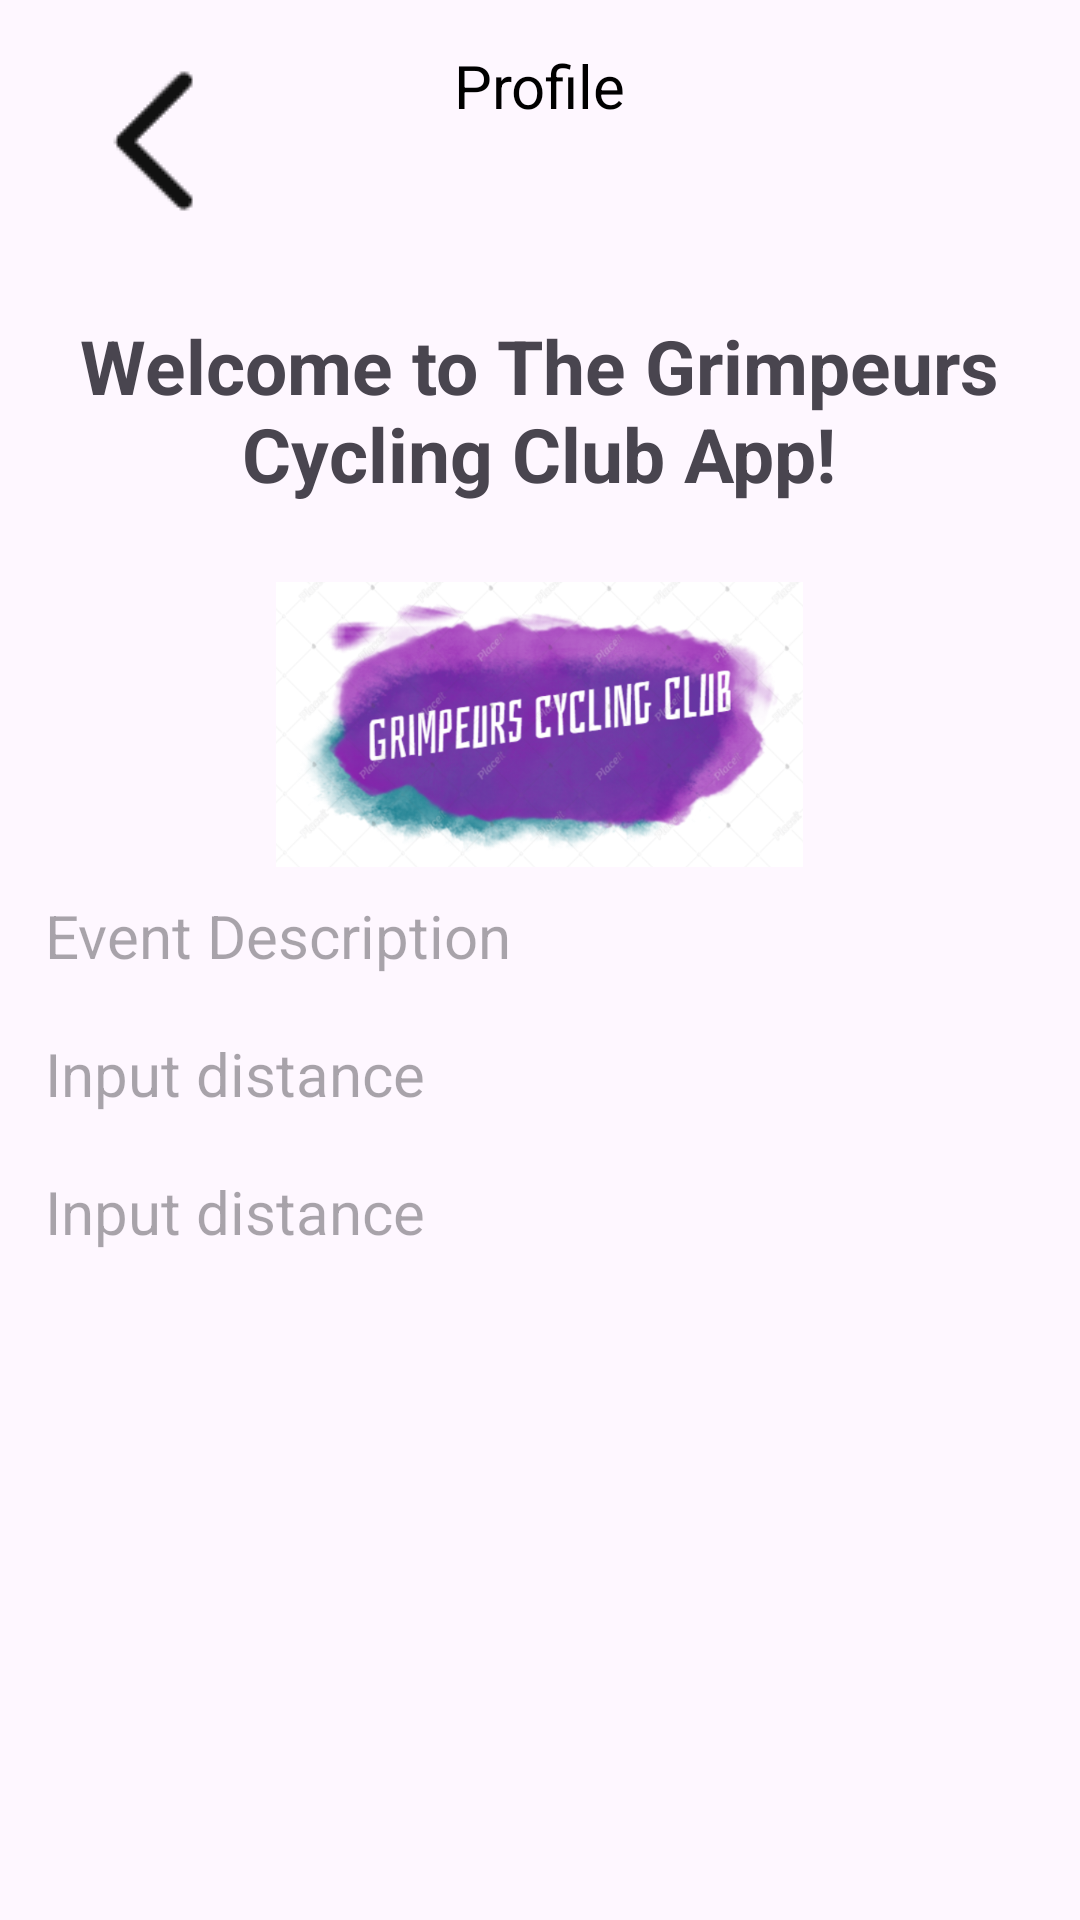

Where to tap for icons on this 1080w x 1920h app screen, as [x,y]:
back: [153,141]
